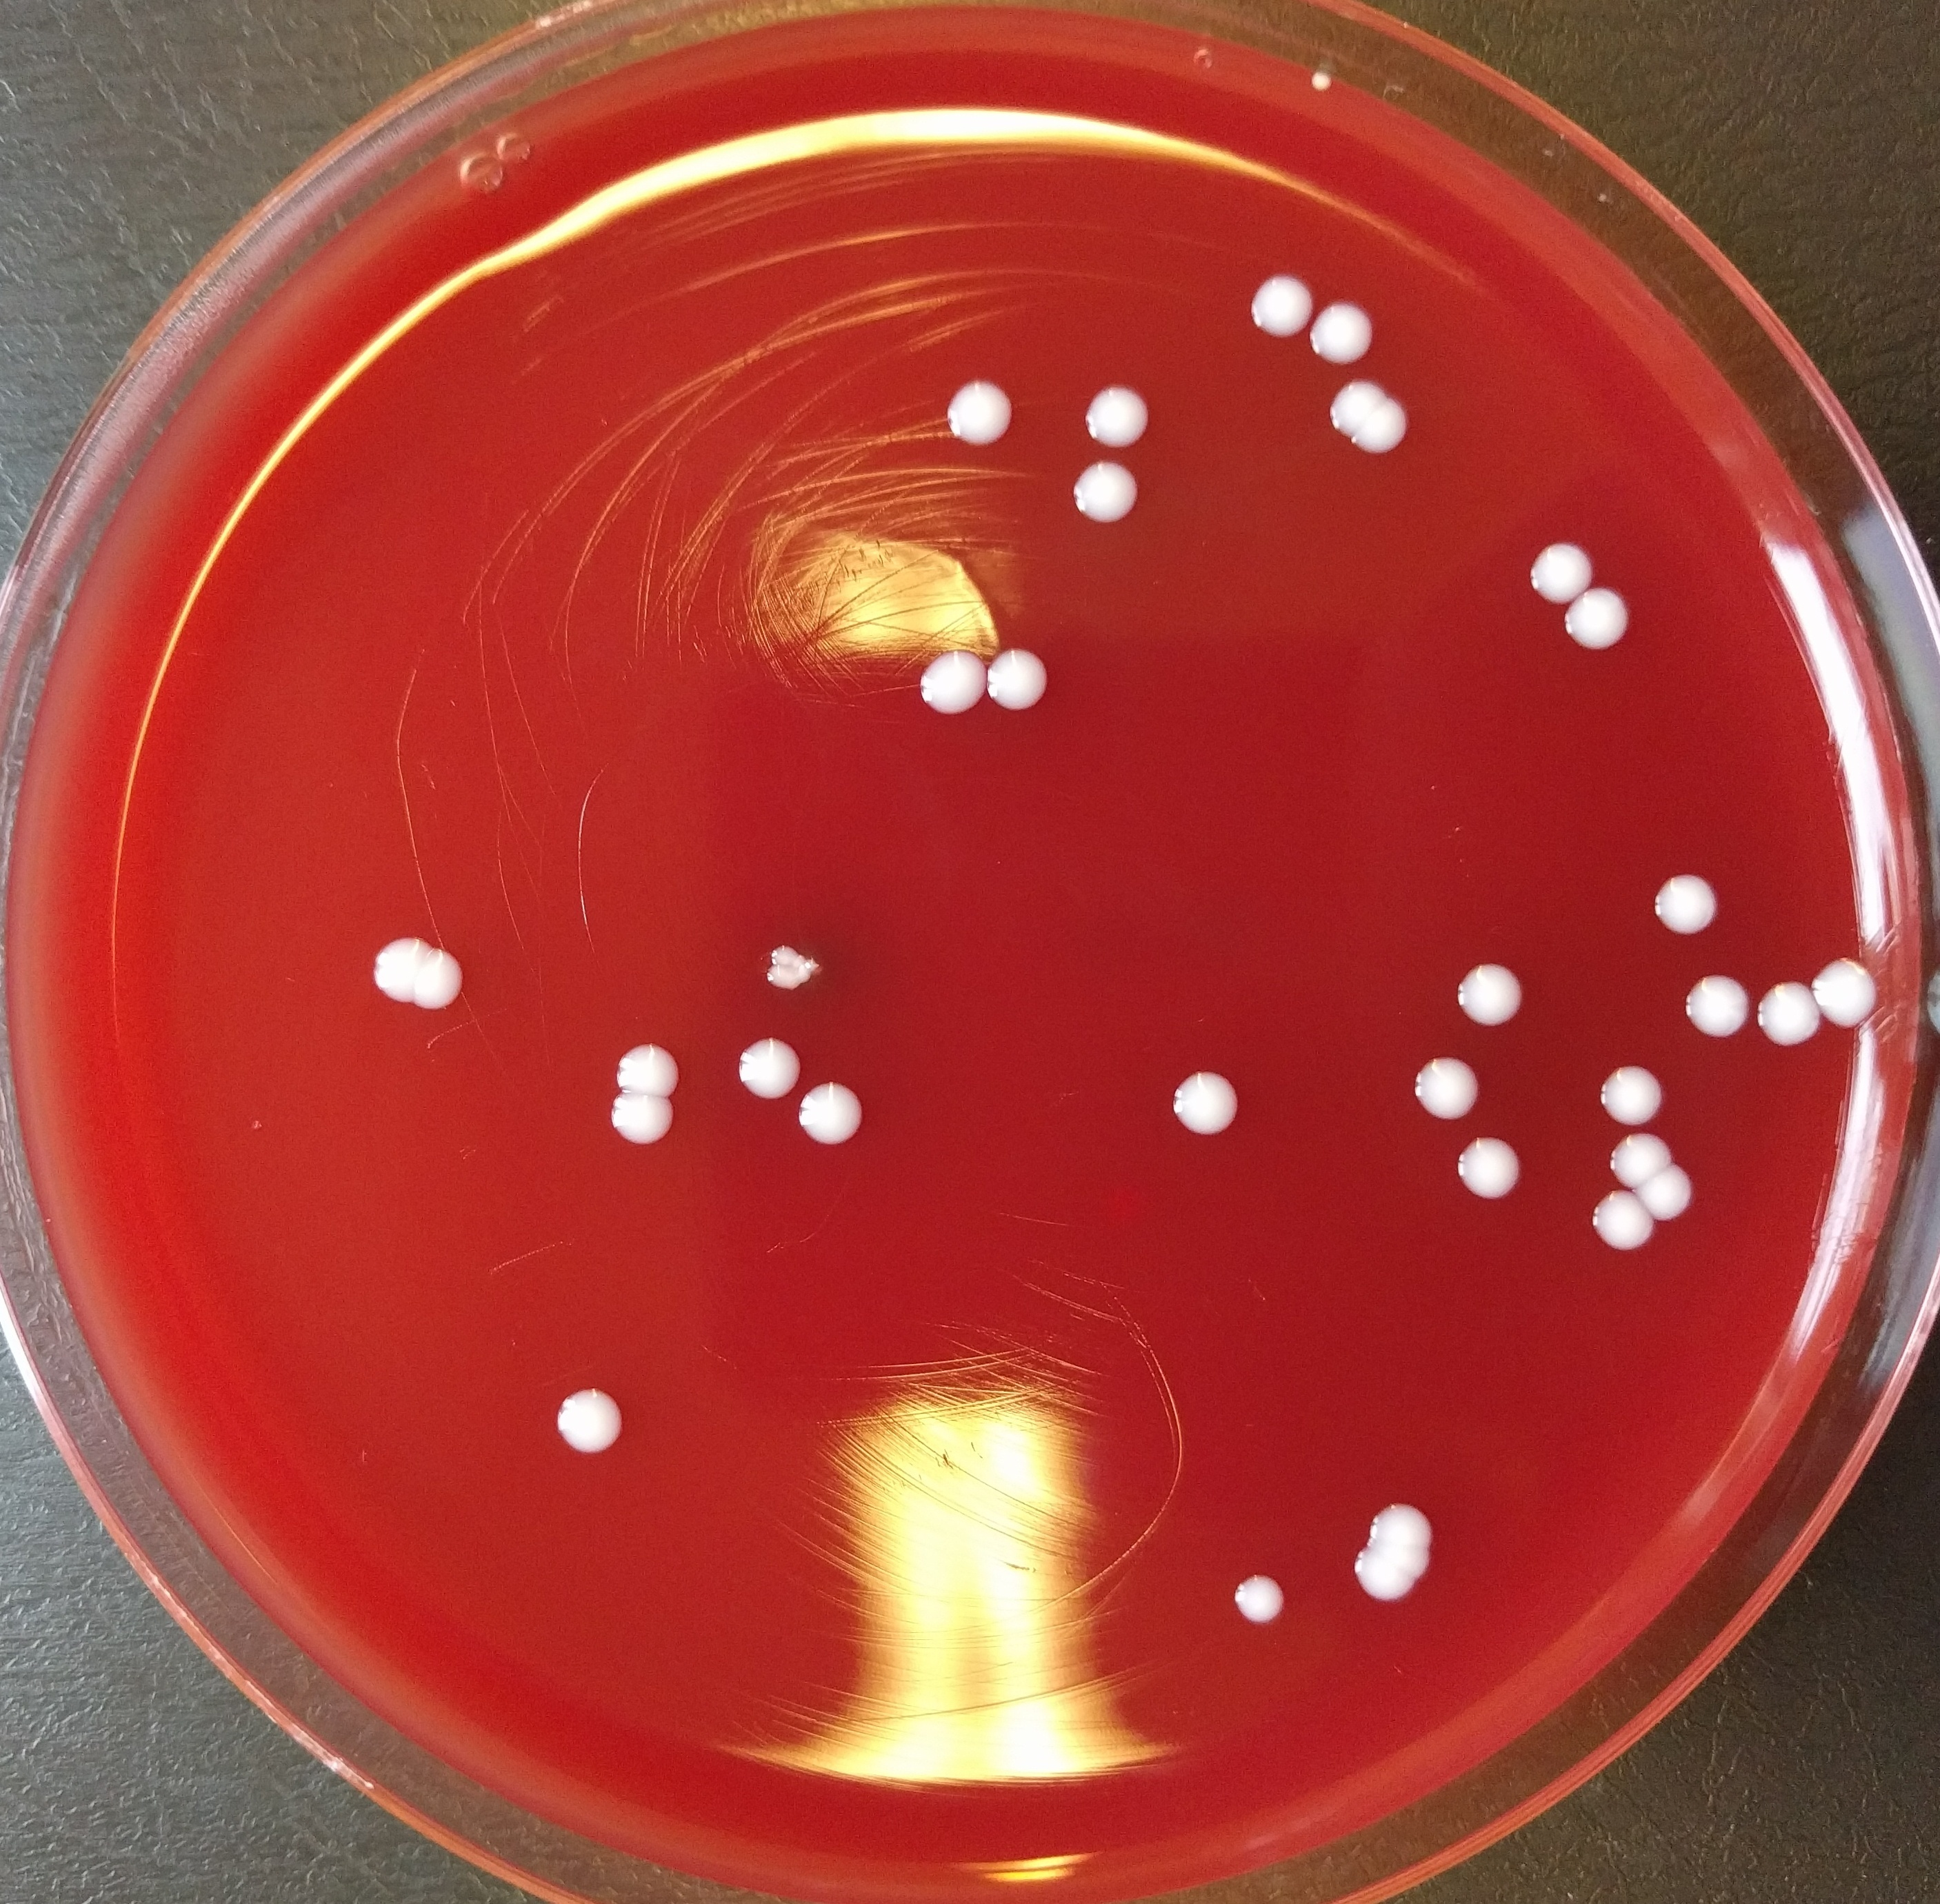sp22: (938, 371, 1018, 464), (1056, 467, 1150, 535), (1074, 377, 1156, 453), (1680, 964, 1753, 1046), (1316, 284, 1380, 377), (1560, 581, 1637, 657), (791, 1076, 870, 1151), (1813, 950, 1882, 1034), (1170, 1065, 1243, 1144), (605, 1078, 678, 1154), (1414, 1050, 1483, 1128), (556, 1386, 627, 1461), (734, 1030, 805, 1105), (1248, 274, 1316, 350), (917, 650, 988, 722), (1597, 1060, 1670, 1130), (1454, 1135, 1527, 1205), (1527, 535, 1591, 614), (988, 642, 1051, 718), (1652, 872, 1722, 940), (1457, 962, 1527, 1030), (1591, 1189, 1659, 1257), (1757, 978, 1815, 1058), (366, 931, 418, 1015), (612, 1037, 682, 1095), (1354, 1538, 1407, 1609), (1367, 1501, 1438, 1550), (1609, 1130, 1675, 1182), (1231, 1573, 1288, 1630), (1326, 378, 1382, 438), (762, 943, 826, 994), (1360, 398, 1412, 457), (1372, 1536, 1438, 1581), (1633, 1170, 1696, 1217), (424, 943, 464, 1015)
